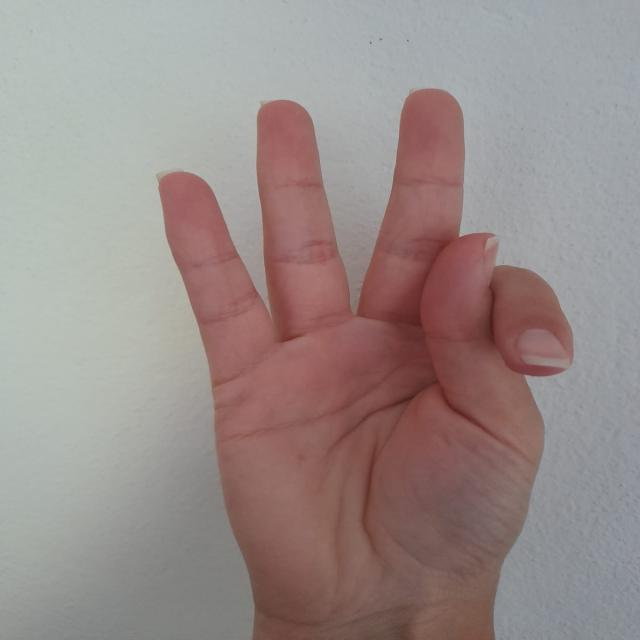T: (155, 87, 581, 518)
